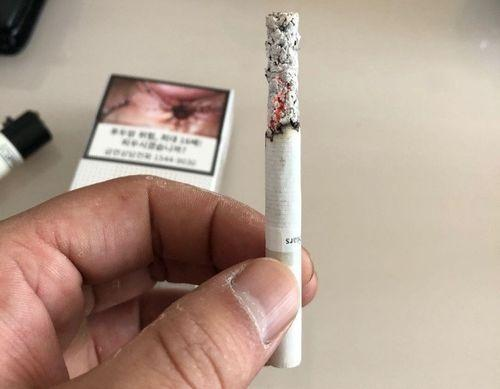smoke: (264, 11, 302, 369)
